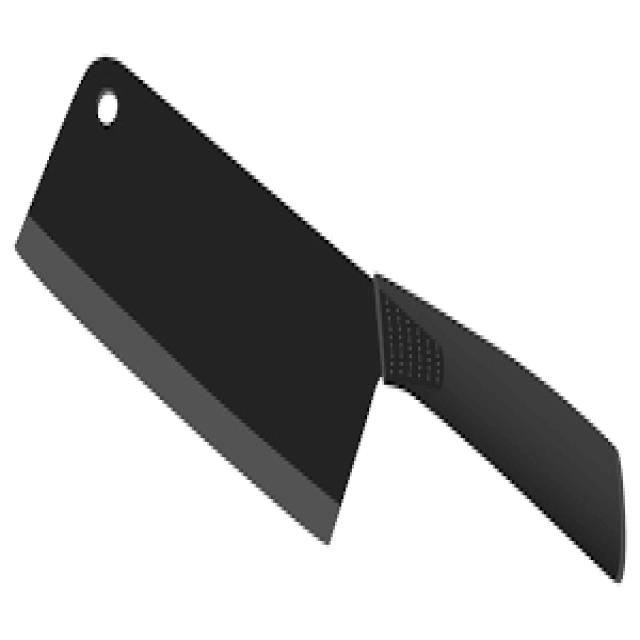Knife: (13, 53, 625, 583)
